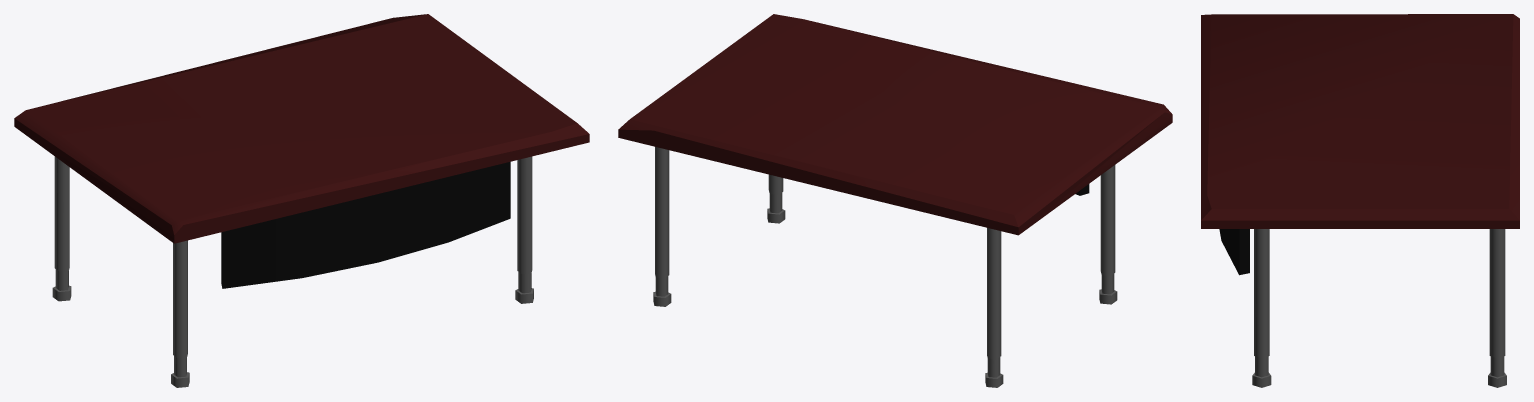
Rendered from OfficeTable_02.fbx.
3 views of the same model, side by side, from view 1: azimuth 30°, elevation 25°; view 2: azimuth 150°, elevation 25°; view 3: azimuth 270°, elevation 25° (orthographic). The views are drawn at different scales.
Parts seen in each view (by area): view 1: OfficeTable_02; view 2: OfficeTable_02; view 3: OfficeTable_02.
Boxes of the visible parts, x1,y1,x2,y2 form: OfficeTable_02: [14, 14, 589, 387]; OfficeTable_02: [618, 14, 1172, 387]; OfficeTable_02: [1201, 14, 1519, 387].
Size of the model in its own units: 1.9 by 0.8231 by 1.27.
